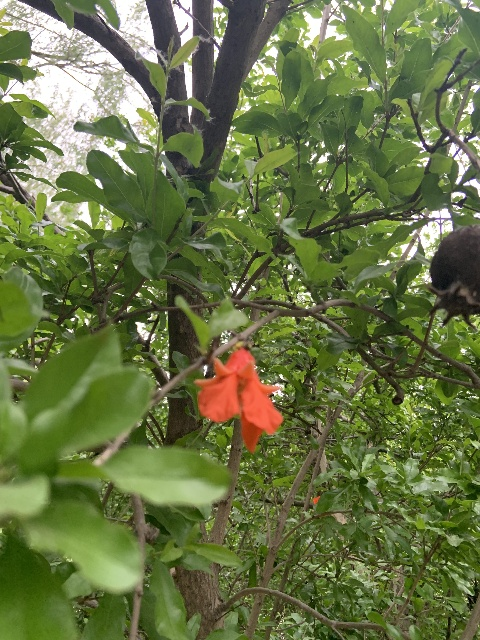flower: (194, 346, 283, 452), (313, 496, 320, 503)
